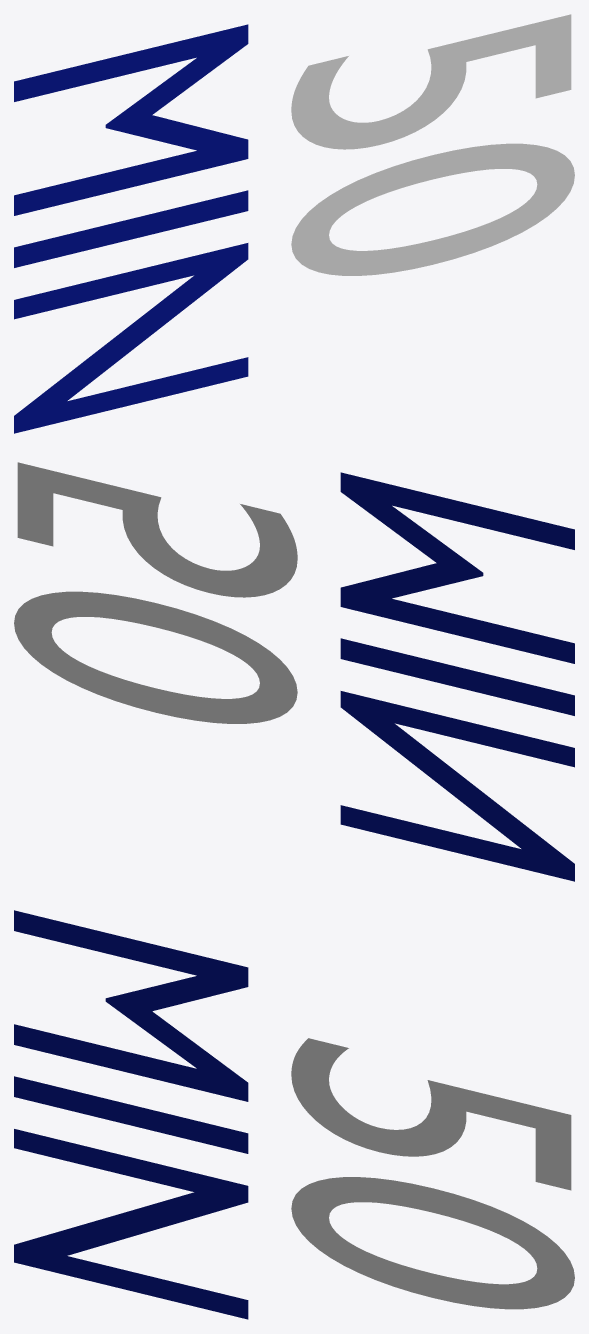
Rendered from 地面标识-限速下限50.gltf.
3 renders of one model, top to bottom at view 1: azimuth 30°, elevation 25°; view 2: azimuth 150°, elevation 25°; view 3: azimuth 330°, elevation 25°, orthographic.
Visible parts, largest first — view 1: 文本.002, 文本; view 2: 文本.002, 文本; view 3: 文本.002, 文本.
Boxes of the visible parts, x1,y1,x2,y2 form: 文本.002: (14, 24, 248, 433); 文本: (291, 14, 574, 275); 文本.002: (340, 472, 574, 881); 文本: (14, 462, 297, 723); 文本.002: (14, 910, 248, 1319); 文本: (291, 1038, 574, 1309).
Size of the model in its own units: 3.4 by 2.04 by 8.08e-07.
